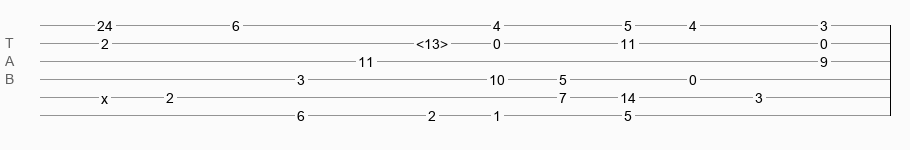0: (493, 36, 501, 46), (689, 72, 697, 82), (820, 36, 828, 46)
1: (493, 108, 501, 118)
10: (489, 72, 505, 82)
11: (358, 54, 374, 64), (620, 36, 636, 46)
14: (620, 90, 636, 100)
2: (101, 36, 109, 46), (166, 90, 174, 100), (428, 108, 436, 118)
24: (97, 18, 113, 28)
3: (297, 72, 305, 82), (755, 90, 763, 100), (820, 18, 828, 28)
4: (493, 18, 501, 28), (689, 18, 697, 28)
5: (559, 72, 567, 82), (624, 18, 632, 28), (624, 108, 632, 118)
6: (232, 18, 240, 28), (297, 108, 305, 118)
7: (559, 90, 567, 100)
9: (820, 54, 828, 64)
harmonic: (416, 36, 448, 46)
x: (101, 91, 108, 99)
